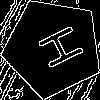H: (28, 23, 85, 75)
